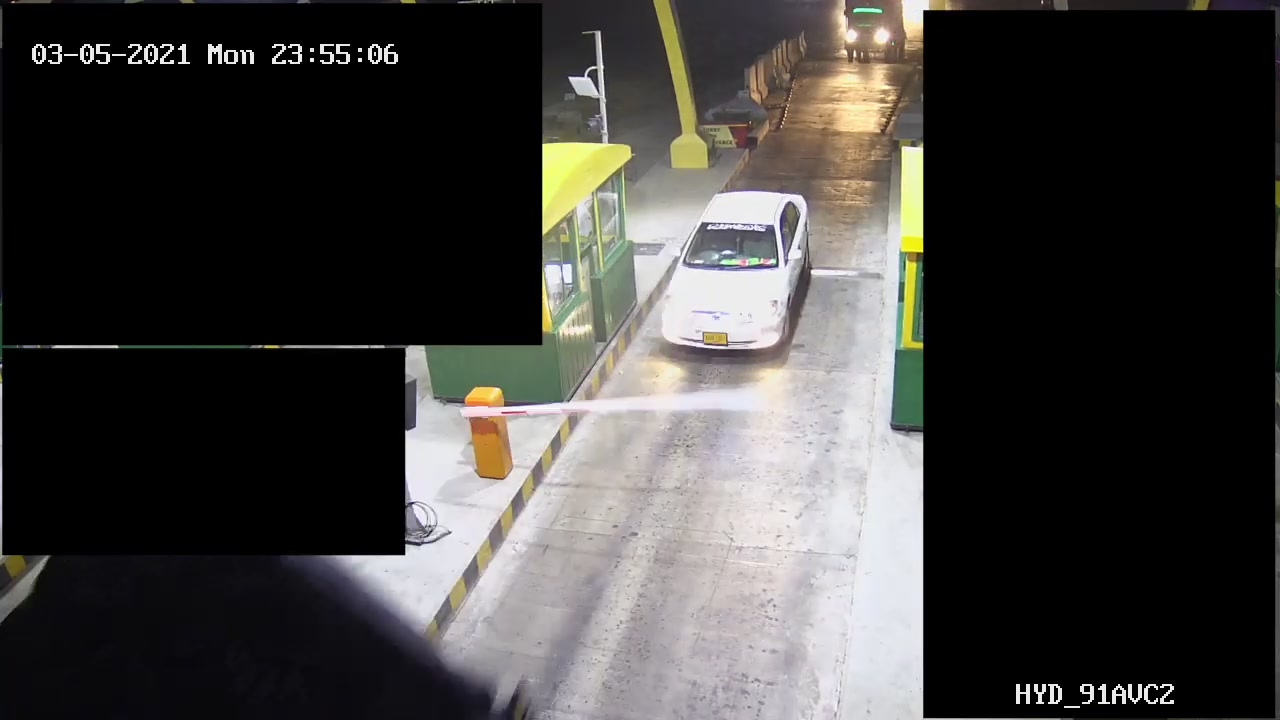F1: (651, 187, 812, 357)
